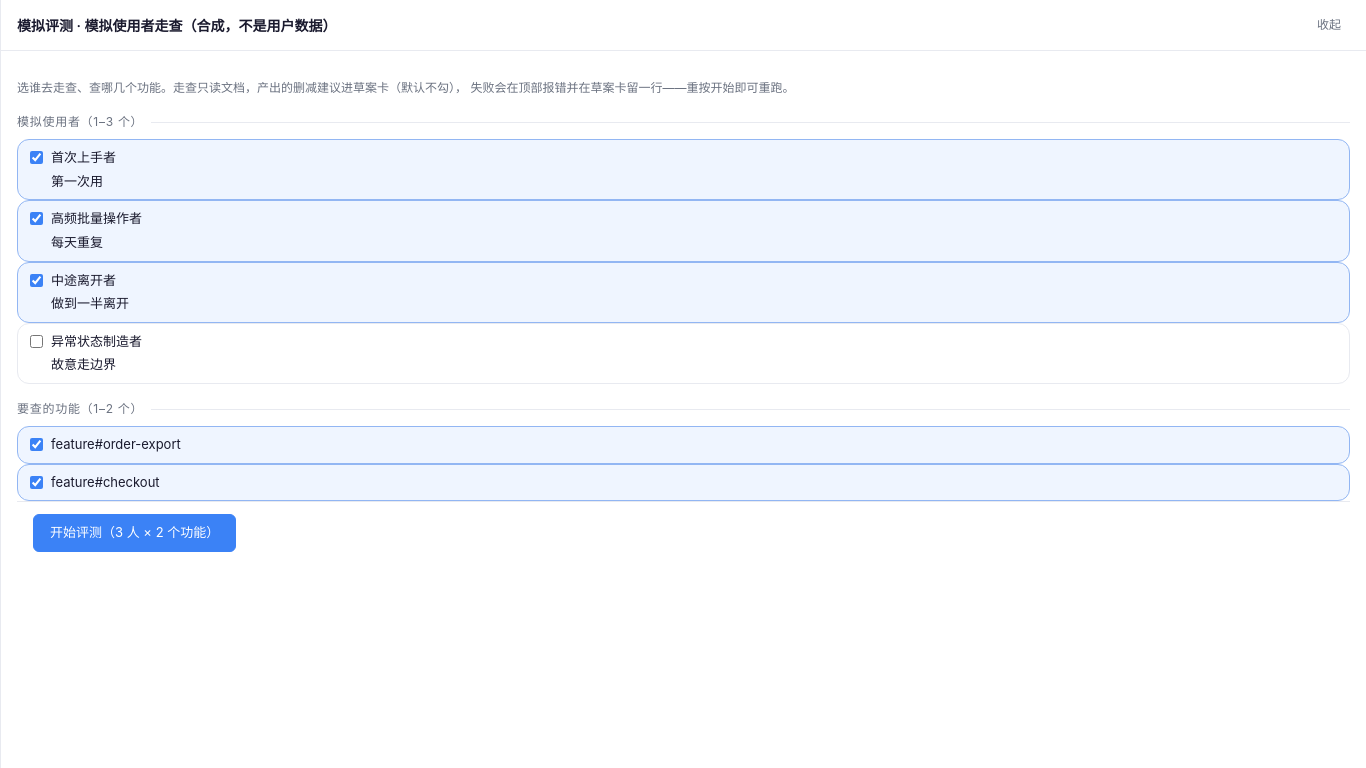
Test case: SimReviewDrawer · 选择器 › 功能全不勾时按钮禁用（0 个没法评）
This screenshot has width=1366, height=768.
Step 1. Click the checkbox labelled "feature#order-export" → {"x": 36, "y": 445}, box [30, 438, 43, 451]
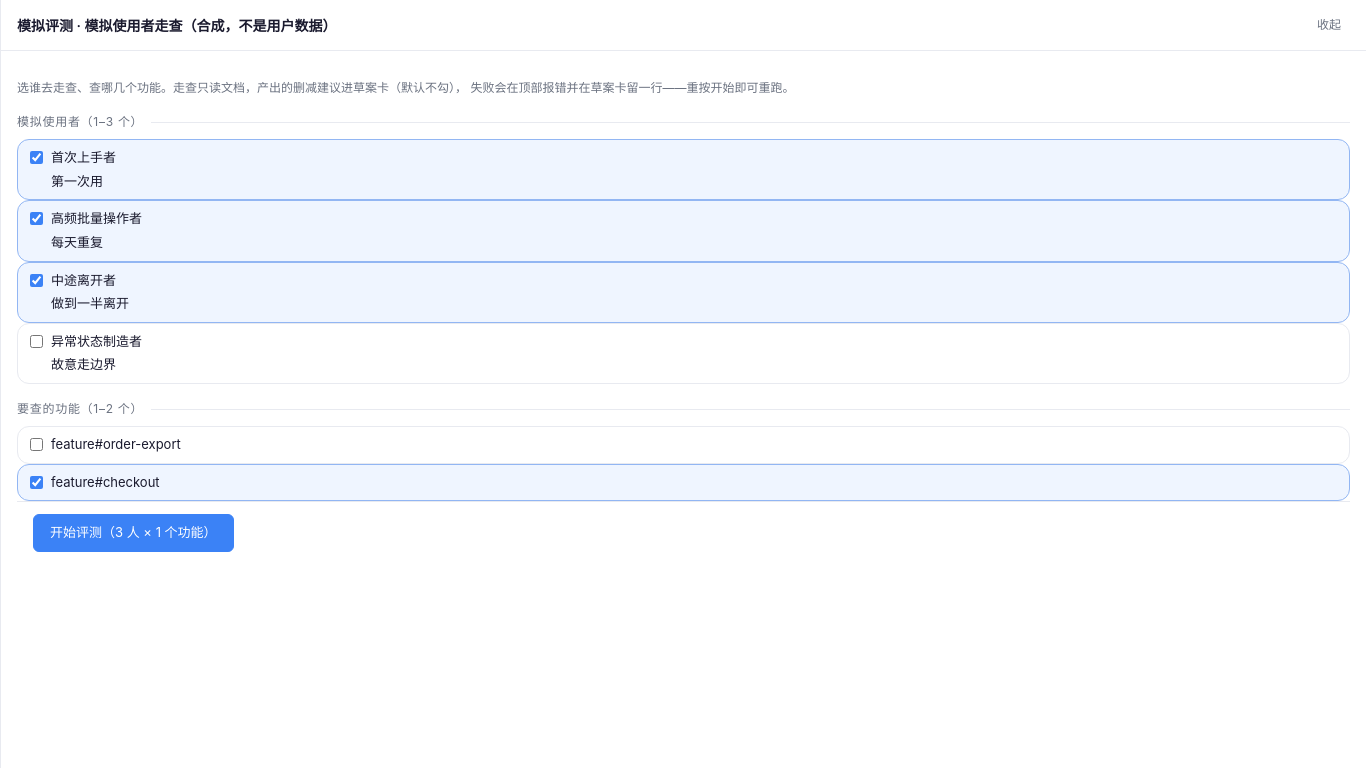
Step 2. Click the checkbox labelled "feature#checkout" → {"x": 36, "y": 482}, box [30, 476, 43, 489]
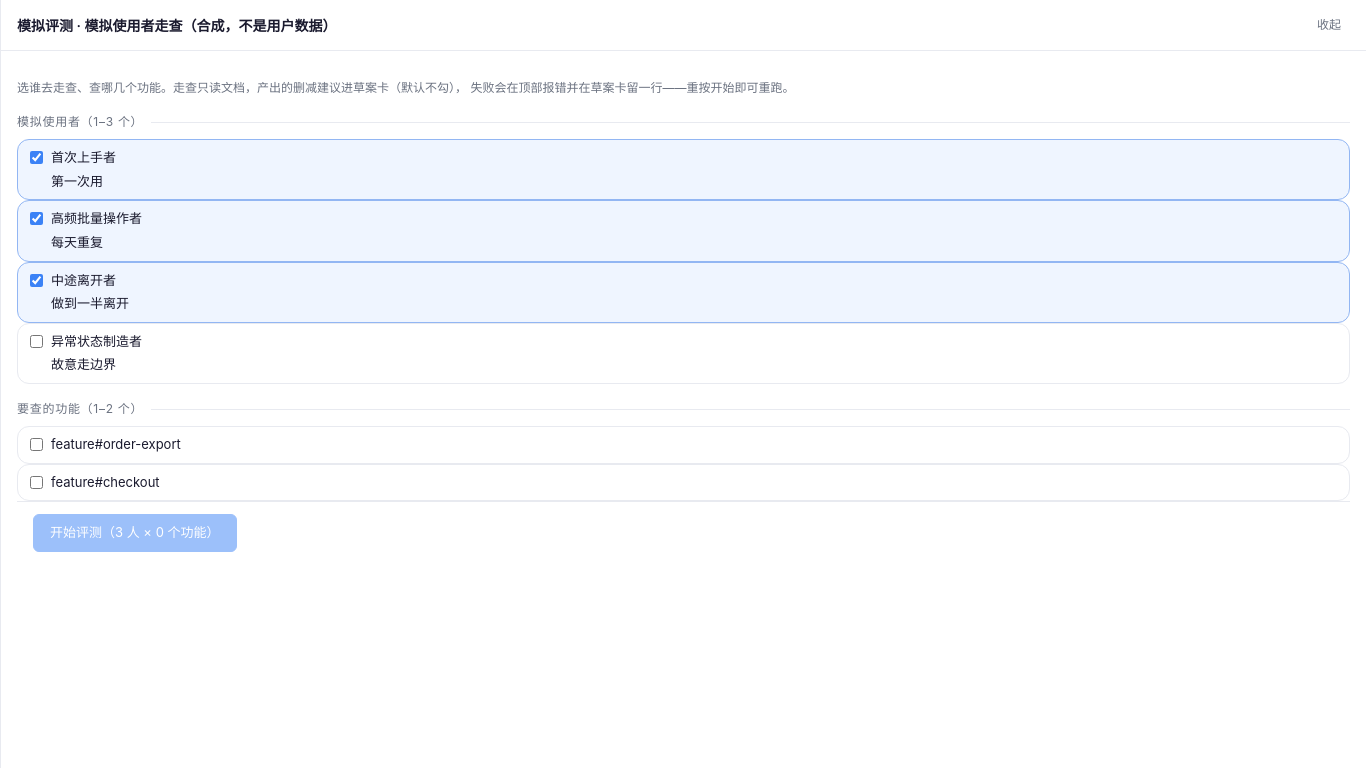
Result: the button "开始评测（3 人 × 0 个功能）" is disabled at [33, 514, 236, 552]
